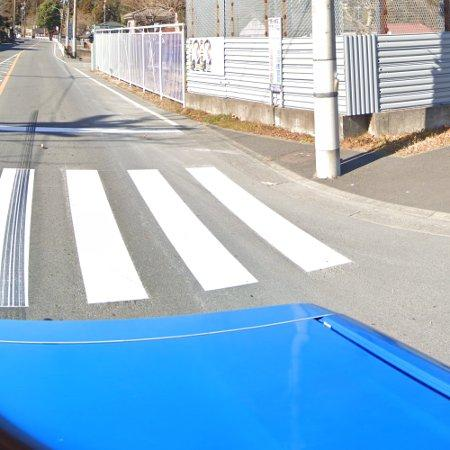crosswalks: (0, 165, 352, 309)
